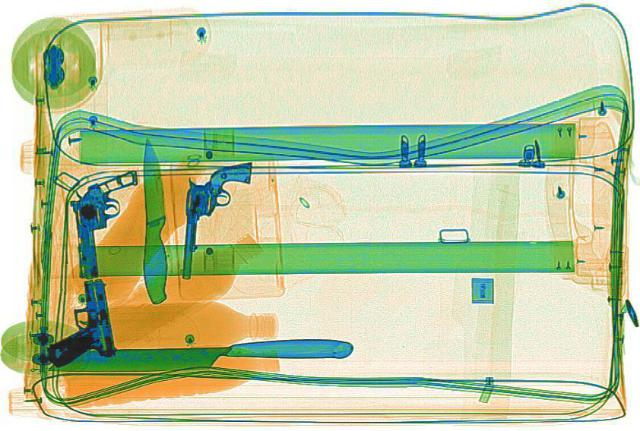Gun: (64, 169, 142, 278), (179, 161, 251, 278), (31, 278, 118, 367)
Knife: (46, 335, 354, 374), (131, 135, 169, 302)
